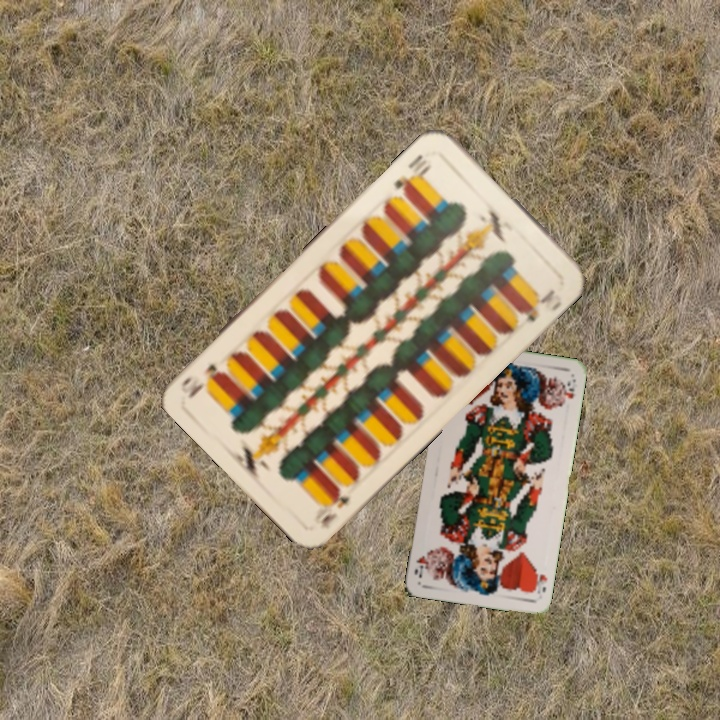E10: (390, 150, 434, 197), (316, 484, 353, 531)
HO: (528, 565, 550, 596)
